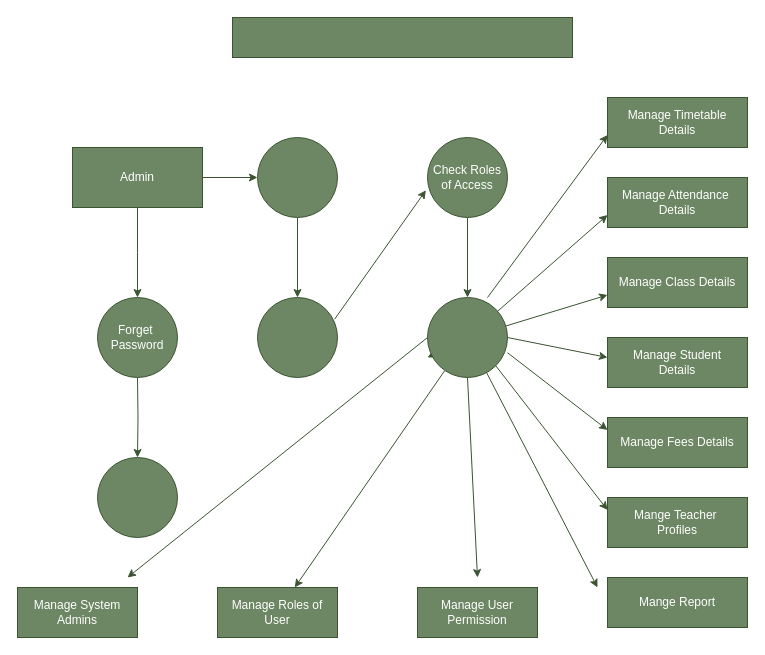
Image size: 765x655. Some labels were removed from this diagram. Each missing label, with the centre of its shape:
Check Credentials: [297,337]
Login to system: [297,177]
Manage Modules: [467,337]
Send Email to User: [137,497]
Student Information System: [402,37]
